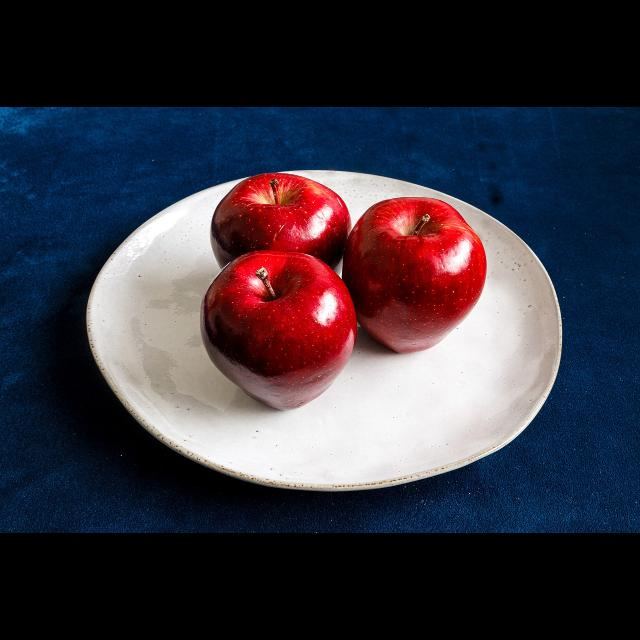Apel Segar: (336, 184, 497, 360), (186, 256, 366, 412), (203, 170, 357, 270)
